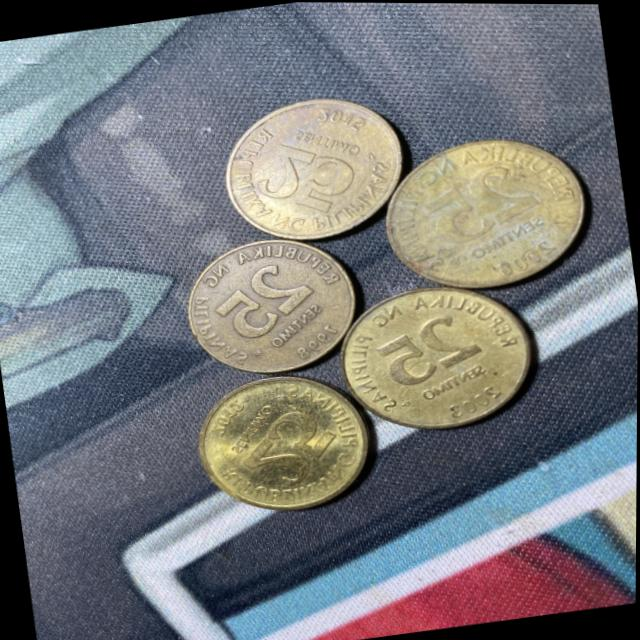25Cent_Old_Front: (423, 159, 541, 248), (257, 136, 362, 225), (375, 308, 484, 392), (244, 402, 342, 492), (217, 256, 320, 339)
